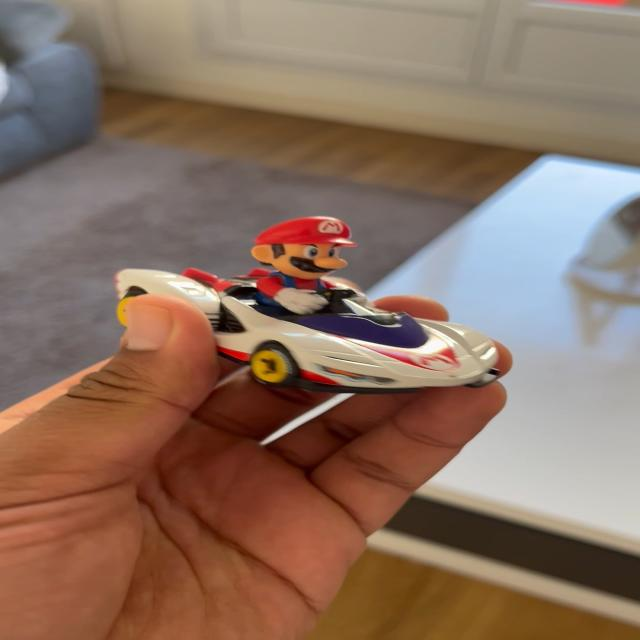mario: (88, 210, 516, 400)
